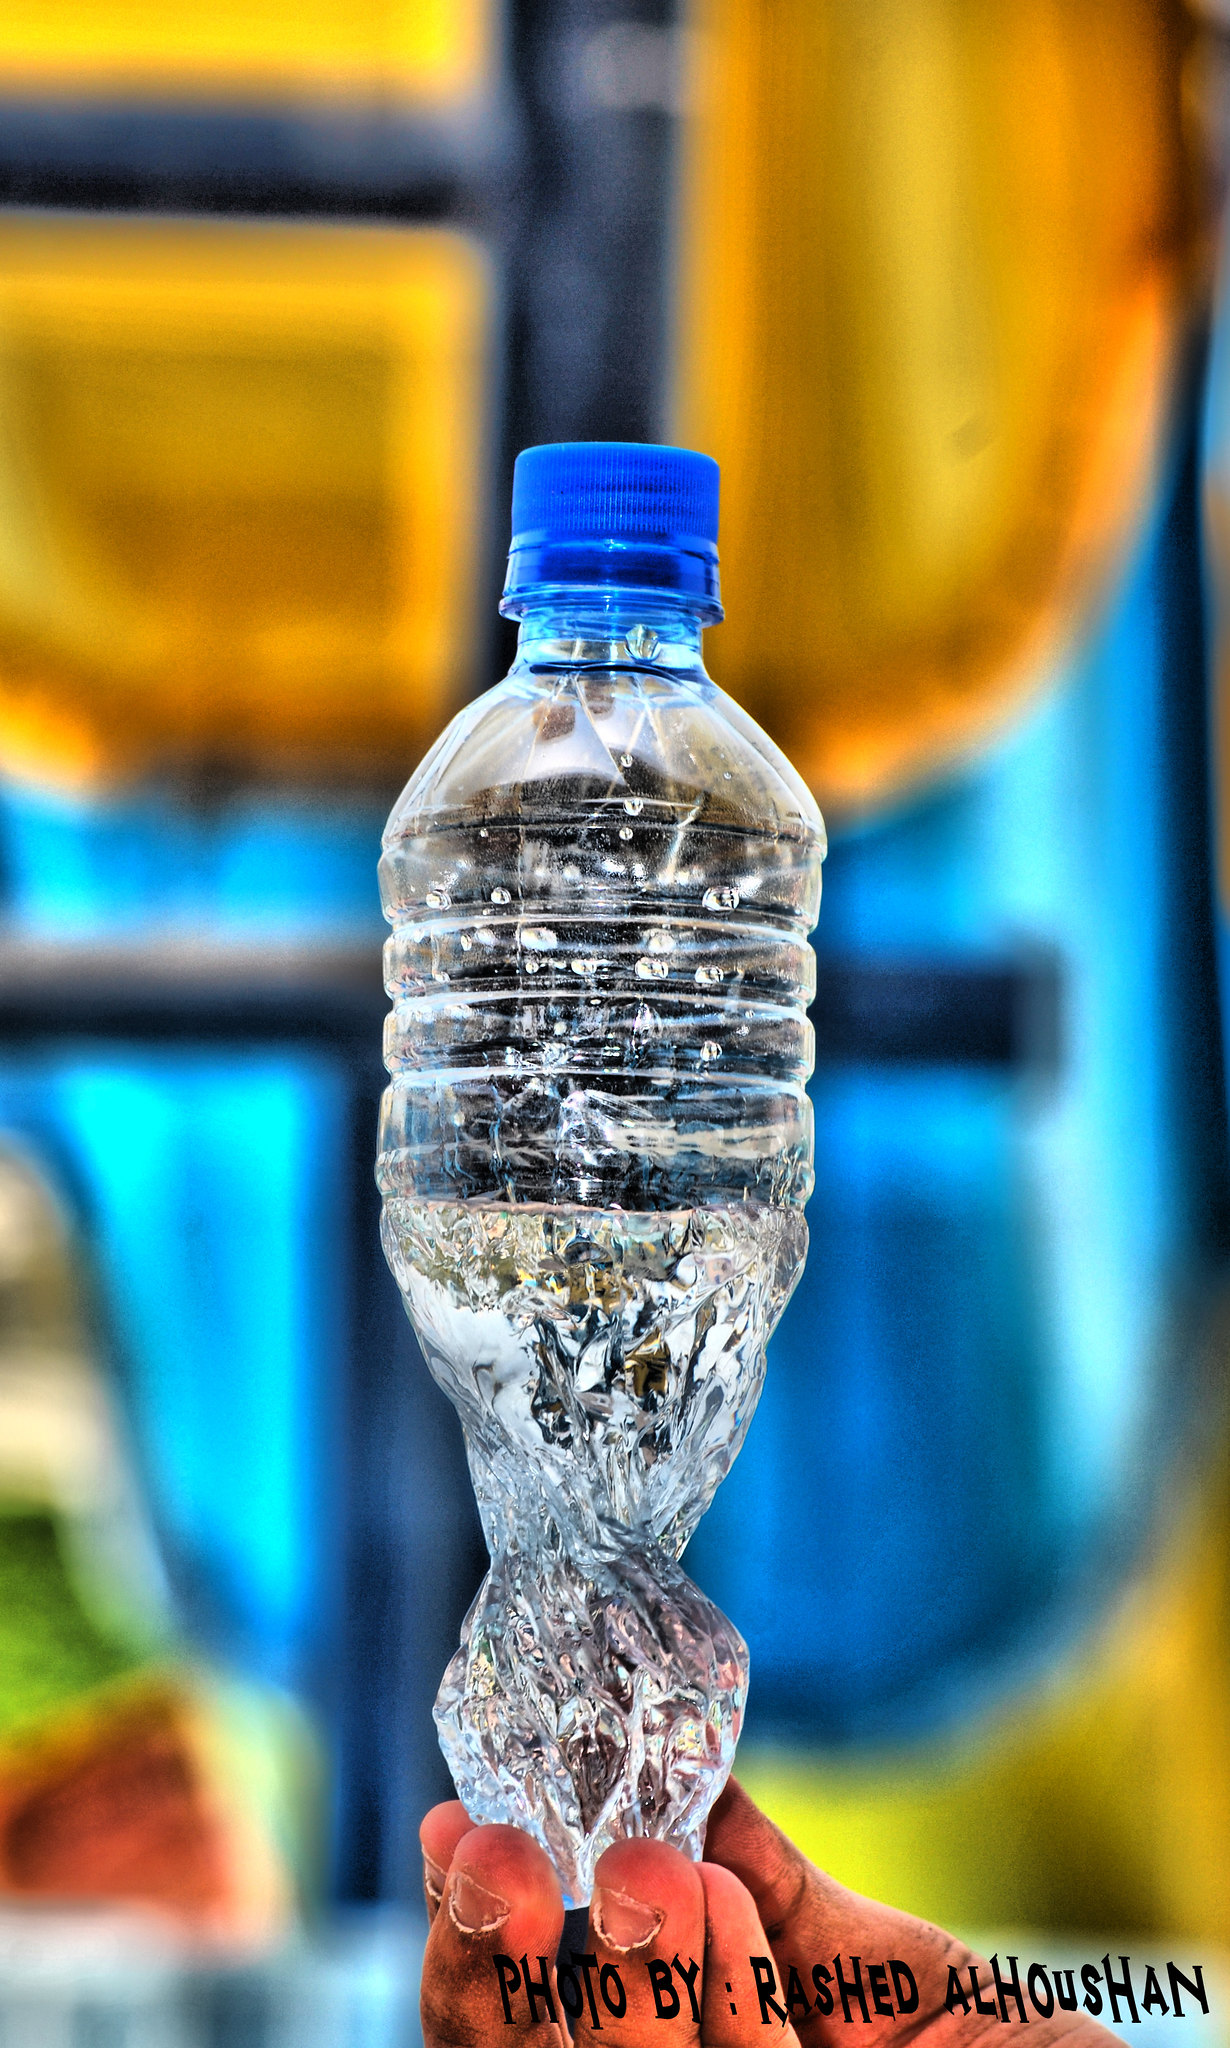Bottle: (249, 408, 935, 1973)
